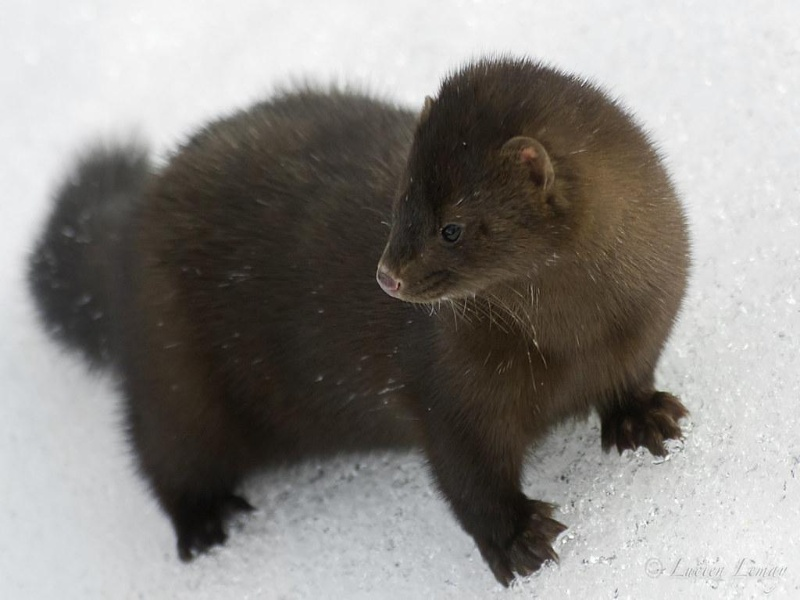minkish: (22, 53, 697, 584)
